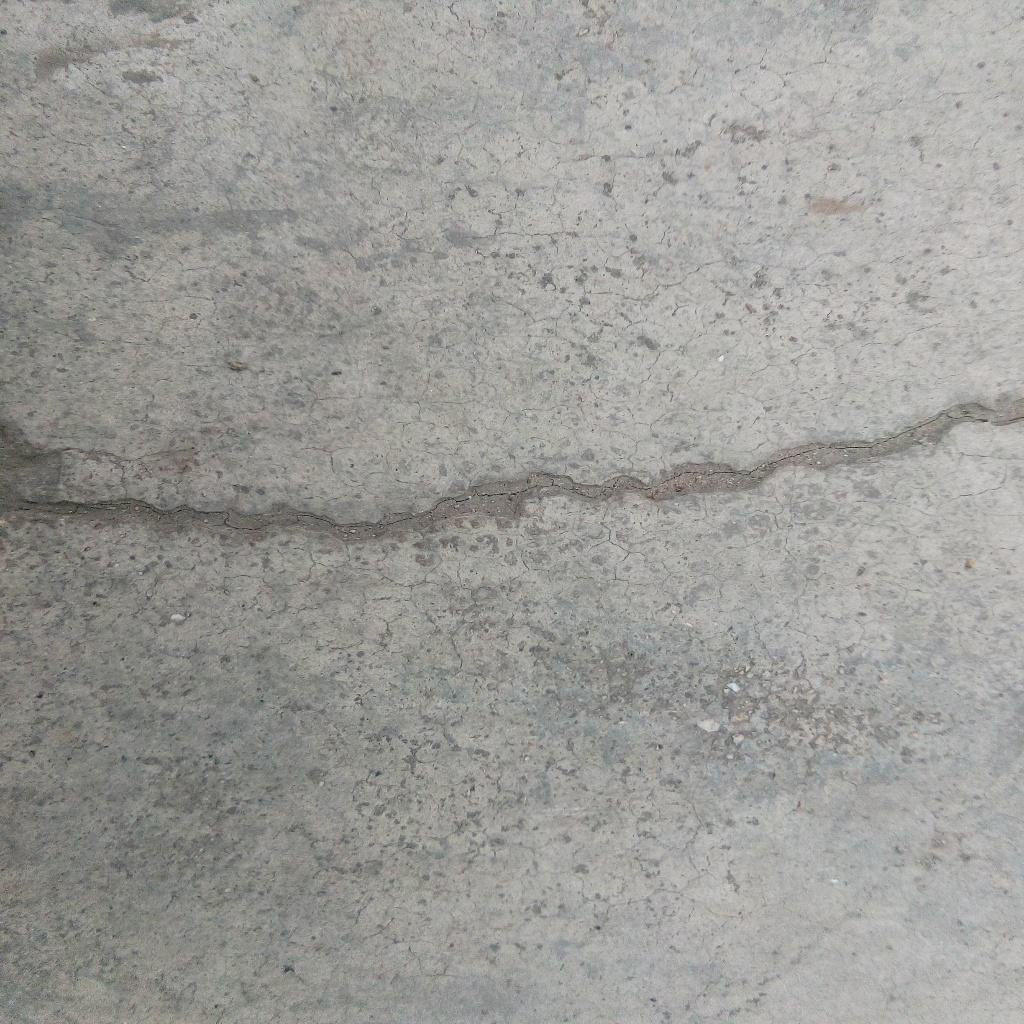Crack: (1, 398, 1024, 540)
